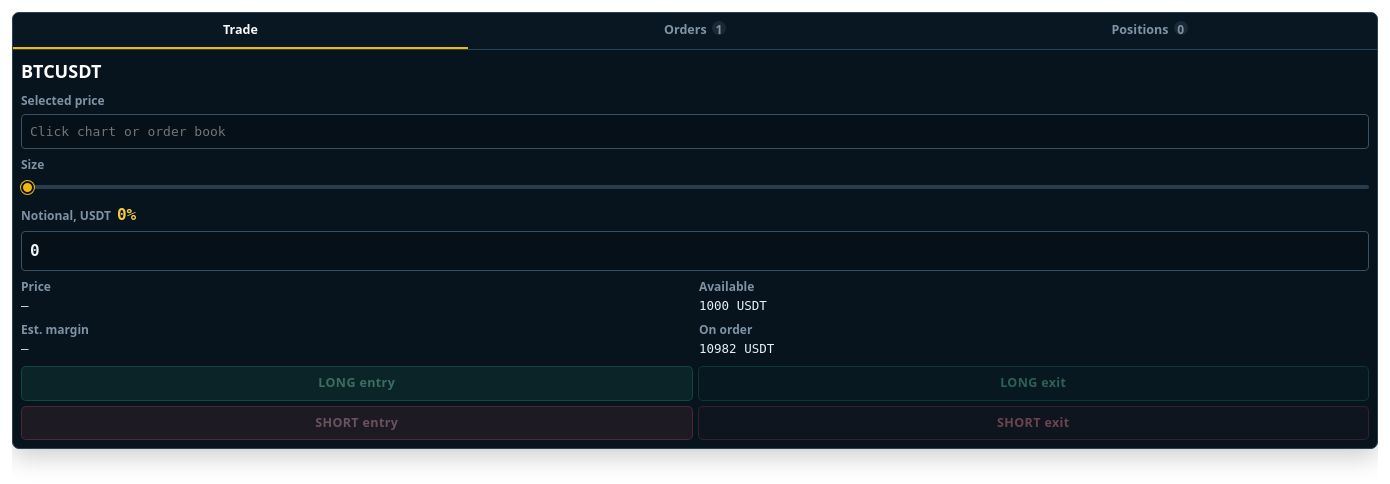
FuturesTradingTicket › names the order columns once instead of repeating the unit on every row
The image size is (1390, 484).
Click the tab "Orders 1" at (695, 31), box [468, 13, 922, 49]
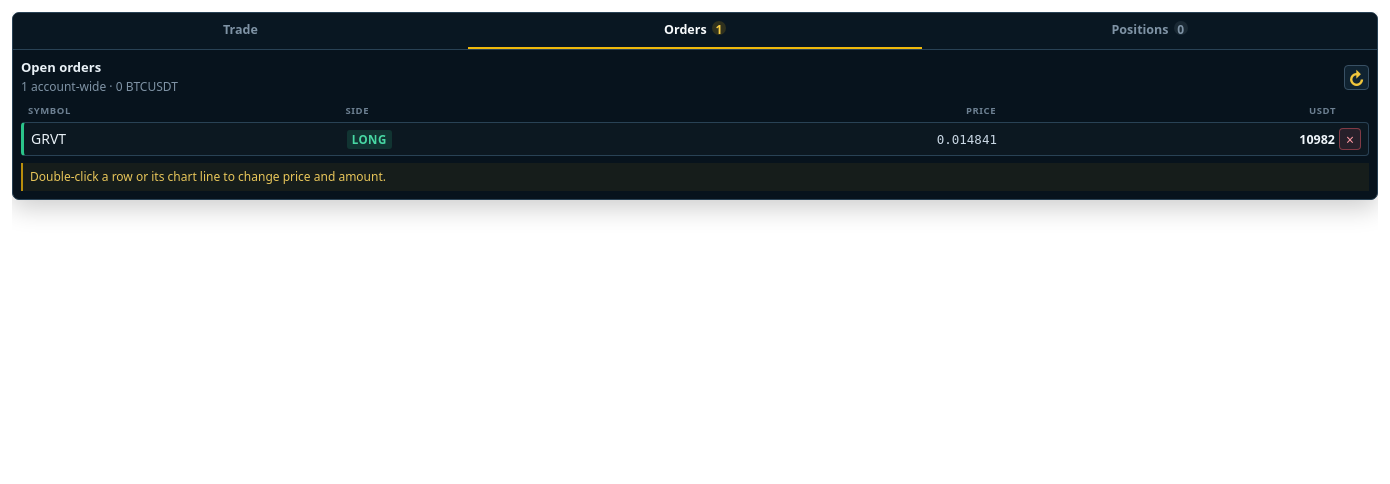
expect the text "10982" is shown: met, box [1299, 131, 1335, 148]
expect the panel named "Current Futures orders" no longer shows "10982 USDT": met, box [21, 58, 1369, 191]
expect the text "0.014841" is shown: met, box [937, 132, 997, 147]
